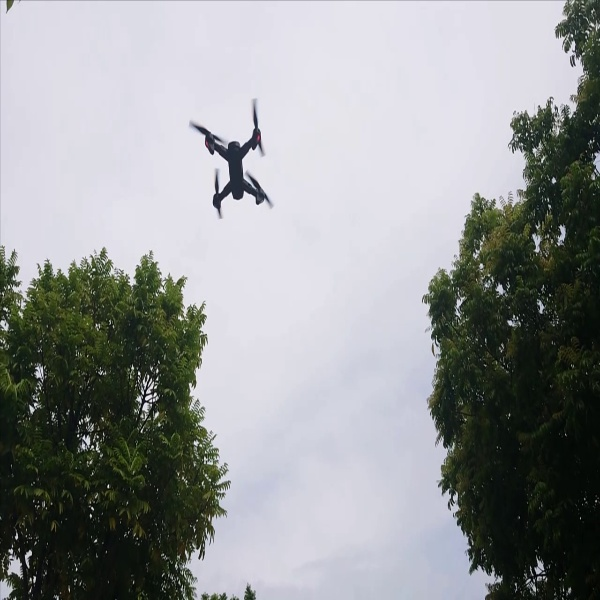drone: (175, 95, 285, 216)
